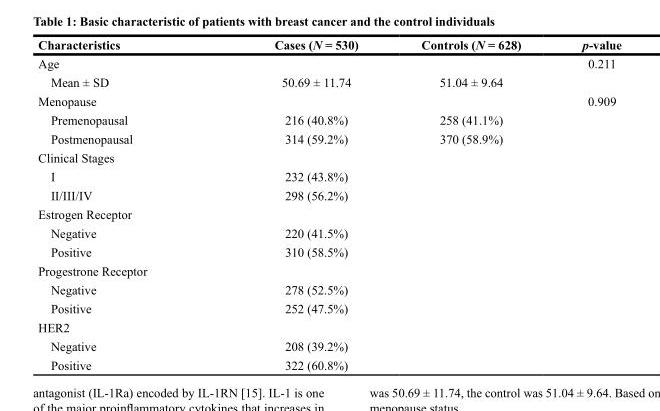table: (37, 37, 620, 371)
table column: (210, 37, 389, 371), (37, 37, 210, 371), (389, 37, 551, 371), (551, 37, 620, 371)
table column header: (37, 37, 620, 53)
table projected row header: (37, 147, 620, 166), (37, 204, 620, 223), (37, 260, 620, 279), (37, 317, 620, 336)
table row: (37, 53, 620, 72), (37, 72, 620, 91), (37, 91, 620, 110), (37, 128, 620, 147), (37, 147, 620, 166), (37, 166, 620, 185), (37, 185, 620, 204), (37, 204, 620, 223), (37, 223, 620, 242), (37, 260, 620, 279), (37, 279, 620, 298), (37, 298, 620, 317), (37, 317, 620, 336), (37, 336, 620, 355), (37, 110, 620, 128), (37, 242, 620, 260), (37, 37, 620, 53), (37, 355, 620, 371)
